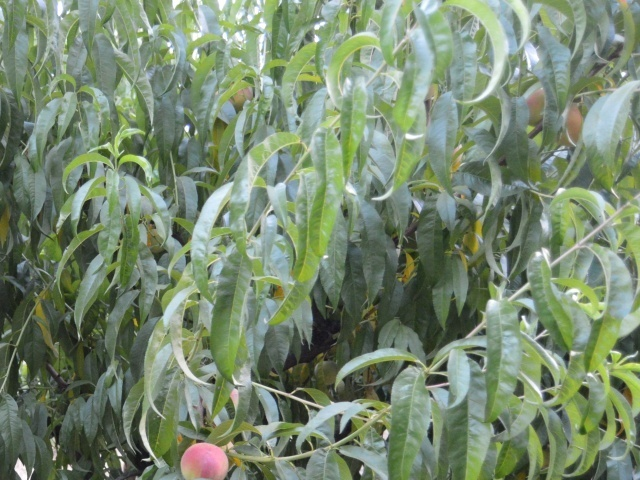peach: (175, 437, 233, 480), (521, 87, 551, 129)
